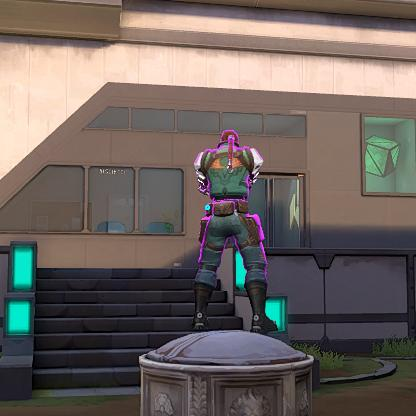enemyBody: (206, 158, 261, 213), (216, 154, 247, 192)
enemyHead: (222, 130, 243, 147)
